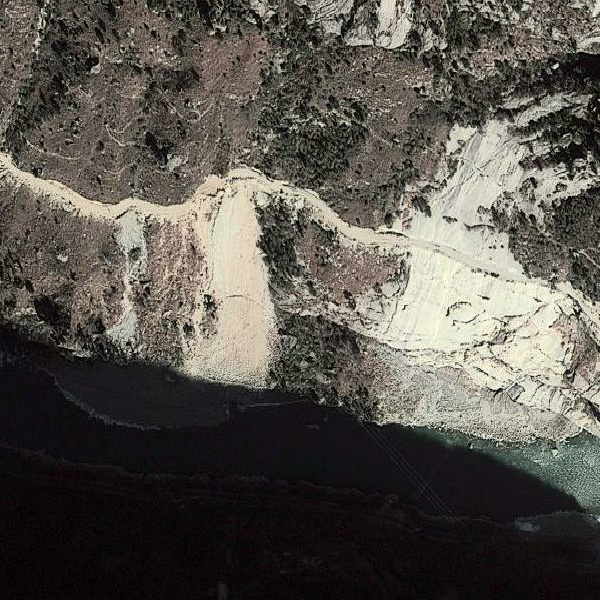slope: (358, 88, 599, 445), (172, 179, 278, 389), (101, 209, 151, 357)
